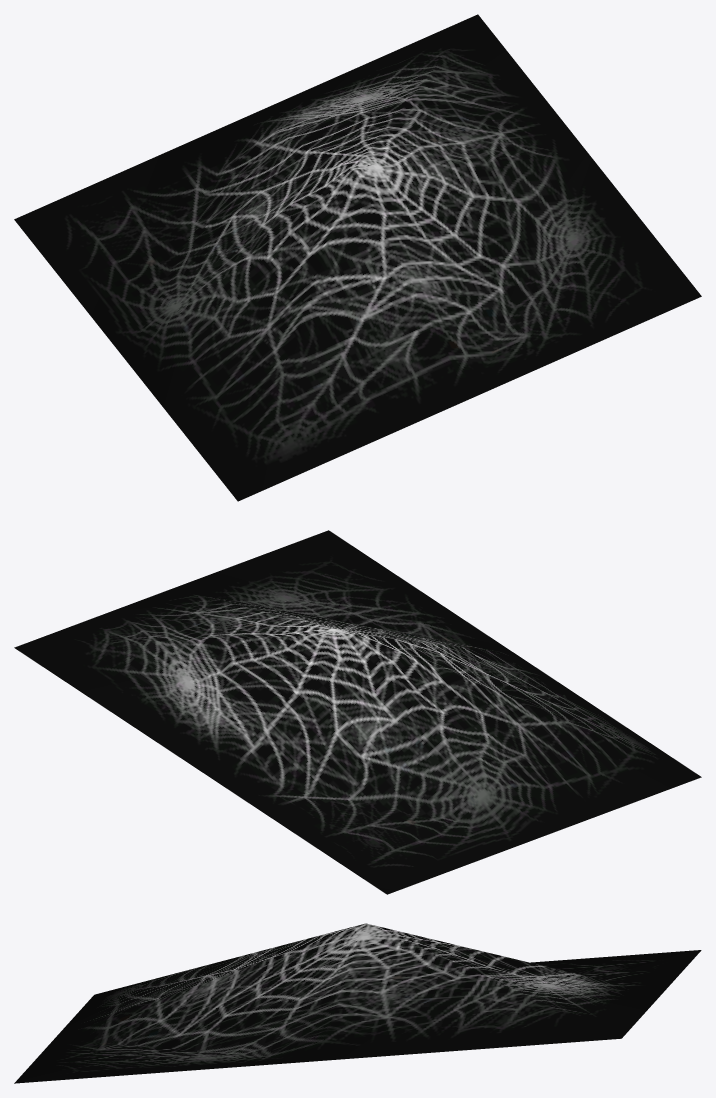
Rendered from MIRKWOOD_PLANE43.fbx.
The picture shows the model from 3 angles, top to bottom: view 1: azimuth 30°, elevation 25°; view 2: azimuth 150°, elevation 25°; view 3: azimuth 270°, elevation 25°; orthographic projection. The views are drawn at different scales.
Parts seen in each view (by area): view 1: MIRKWOOD_PLANE43; view 2: MIRKWOOD_PLANE43; view 3: MIRKWOOD_PLANE43.
Part boxes in pixels (x1,y1,x2,y2): MIRKWOOD_PLANE43: (14,14,701,501); MIRKWOOD_PLANE43: (14,530,701,894); MIRKWOOD_PLANE43: (14,923,701,1083).
Bounding box in the file's own units: 115168 × 44514 × 130147.
Materials: 1 (1 with a texture image).
